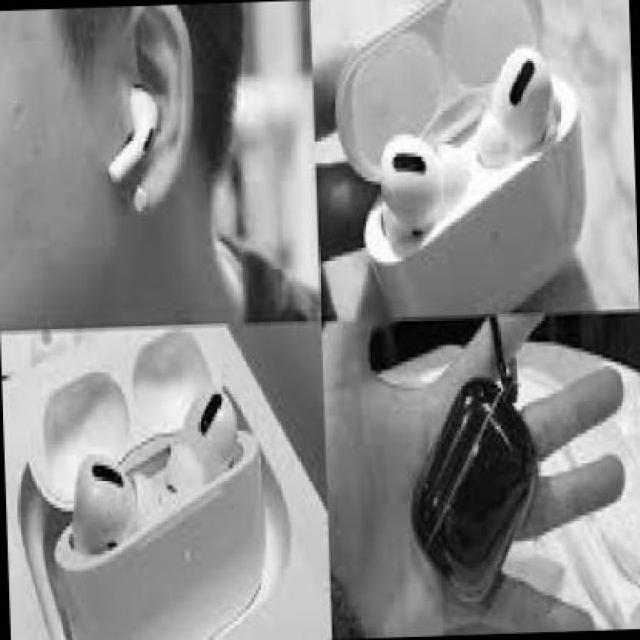earphone: (178, 366, 260, 509), (483, 33, 560, 176), (372, 116, 442, 237), (60, 441, 136, 547), (113, 78, 162, 214)
